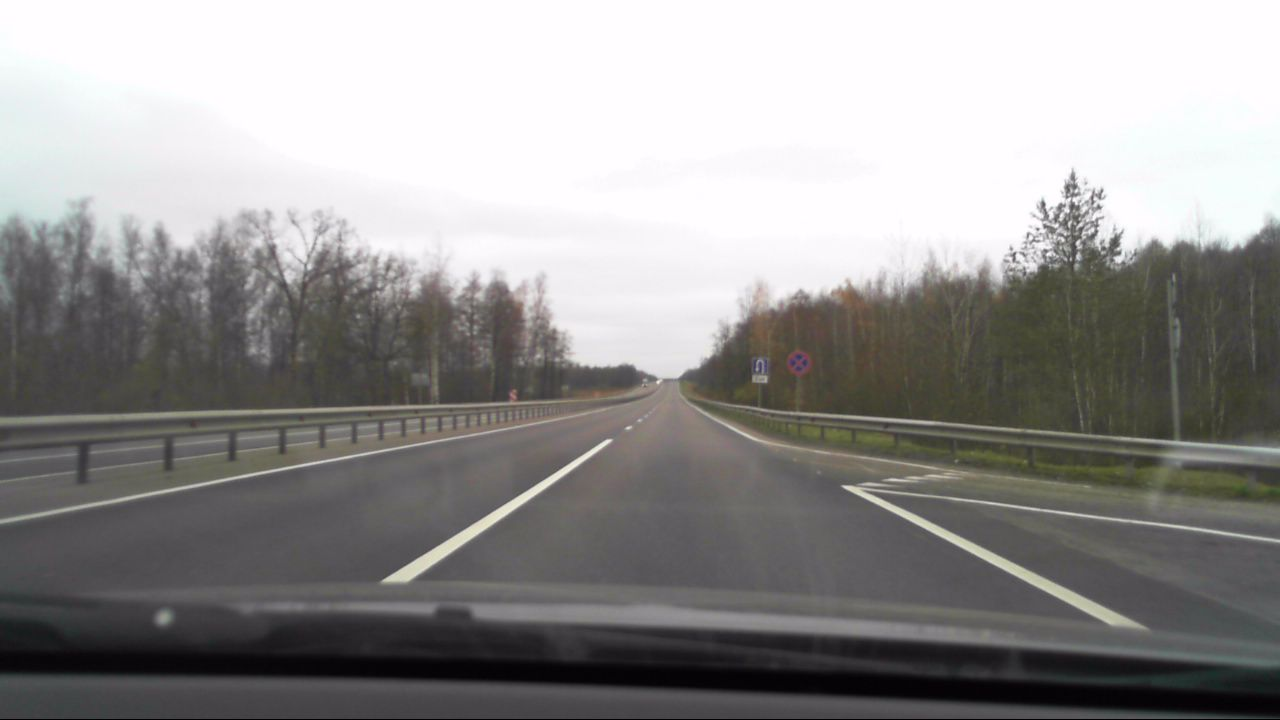No Parking: (785, 348, 810, 374)
U-turn: (752, 358, 767, 374)
